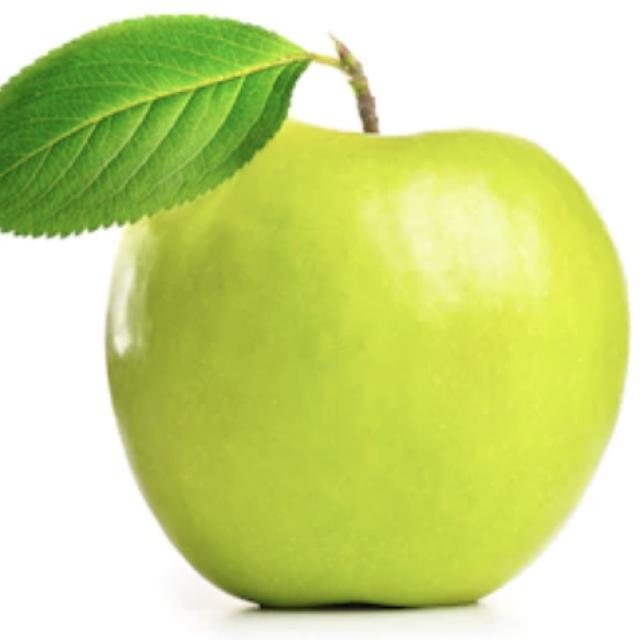Apel: (108, 118, 629, 607)
